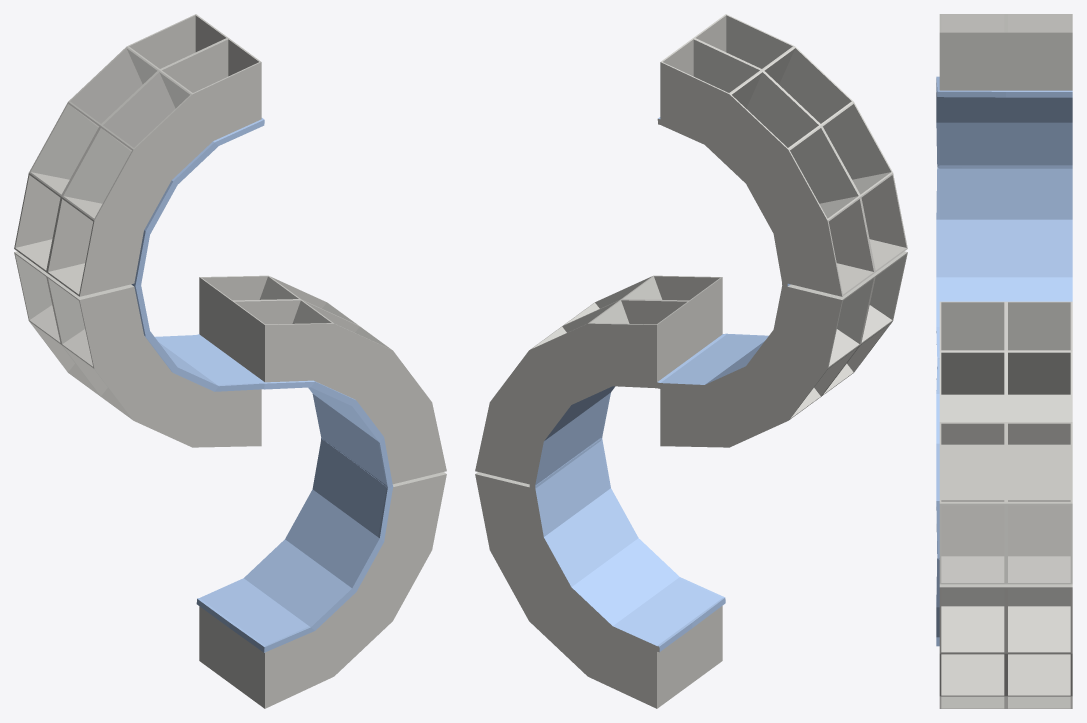
3 renders of one model, left to right at view 1: azimuth 30°, elevation 25°; view 2: azimuth 150°, elevation 25°; view 3: azimuth 270°, elevation 25°, orthographic.
Parts seen in each view (by area): view 1: Cylinder.002, Cylinder.003, Cylinder.001, Cylinder.000; view 2: Cylinder.002, Cylinder.003, Cylinder.001, Cylinder.000; view 3: Cylinder.001, Cylinder.002, Cylinder.000, Cylinder.003.
Boxes of the visible parts, x1=… form: Cylinder.002: x1=14, y1=14, x2=264, y2=296; Cylinder.003: x1=196, y1=438, x2=446, y2=708; Cylinder.001: x1=199, y1=275, x2=446, y2=488; Cylinder.000: x1=14, y1=251, x2=264, y2=447; Cylinder.002: x1=657, y1=14, x2=907, y2=296; Cylinder.003: x1=475, y1=438, x2=725, y2=708; Cylinder.001: x1=475, y1=275, x2=724, y2=488; Cylinder.000: x1=657, y1=251, x2=907, y2=447; Cylinder.001: x1=936, y1=301, x2=1072, y2=584; Cylinder.002: x1=936, y1=14, x2=1072, y2=167; Cylinder.000: x1=936, y1=167, x2=1072, y2=358; Cylinder.003: x1=936, y1=558, x2=1072, y2=708.
Size of the model in its own units: 1.28 by 2.16 by 0.4057.
